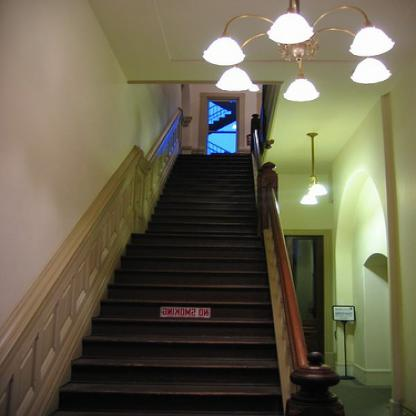stairs: (103, 281, 260, 415)
